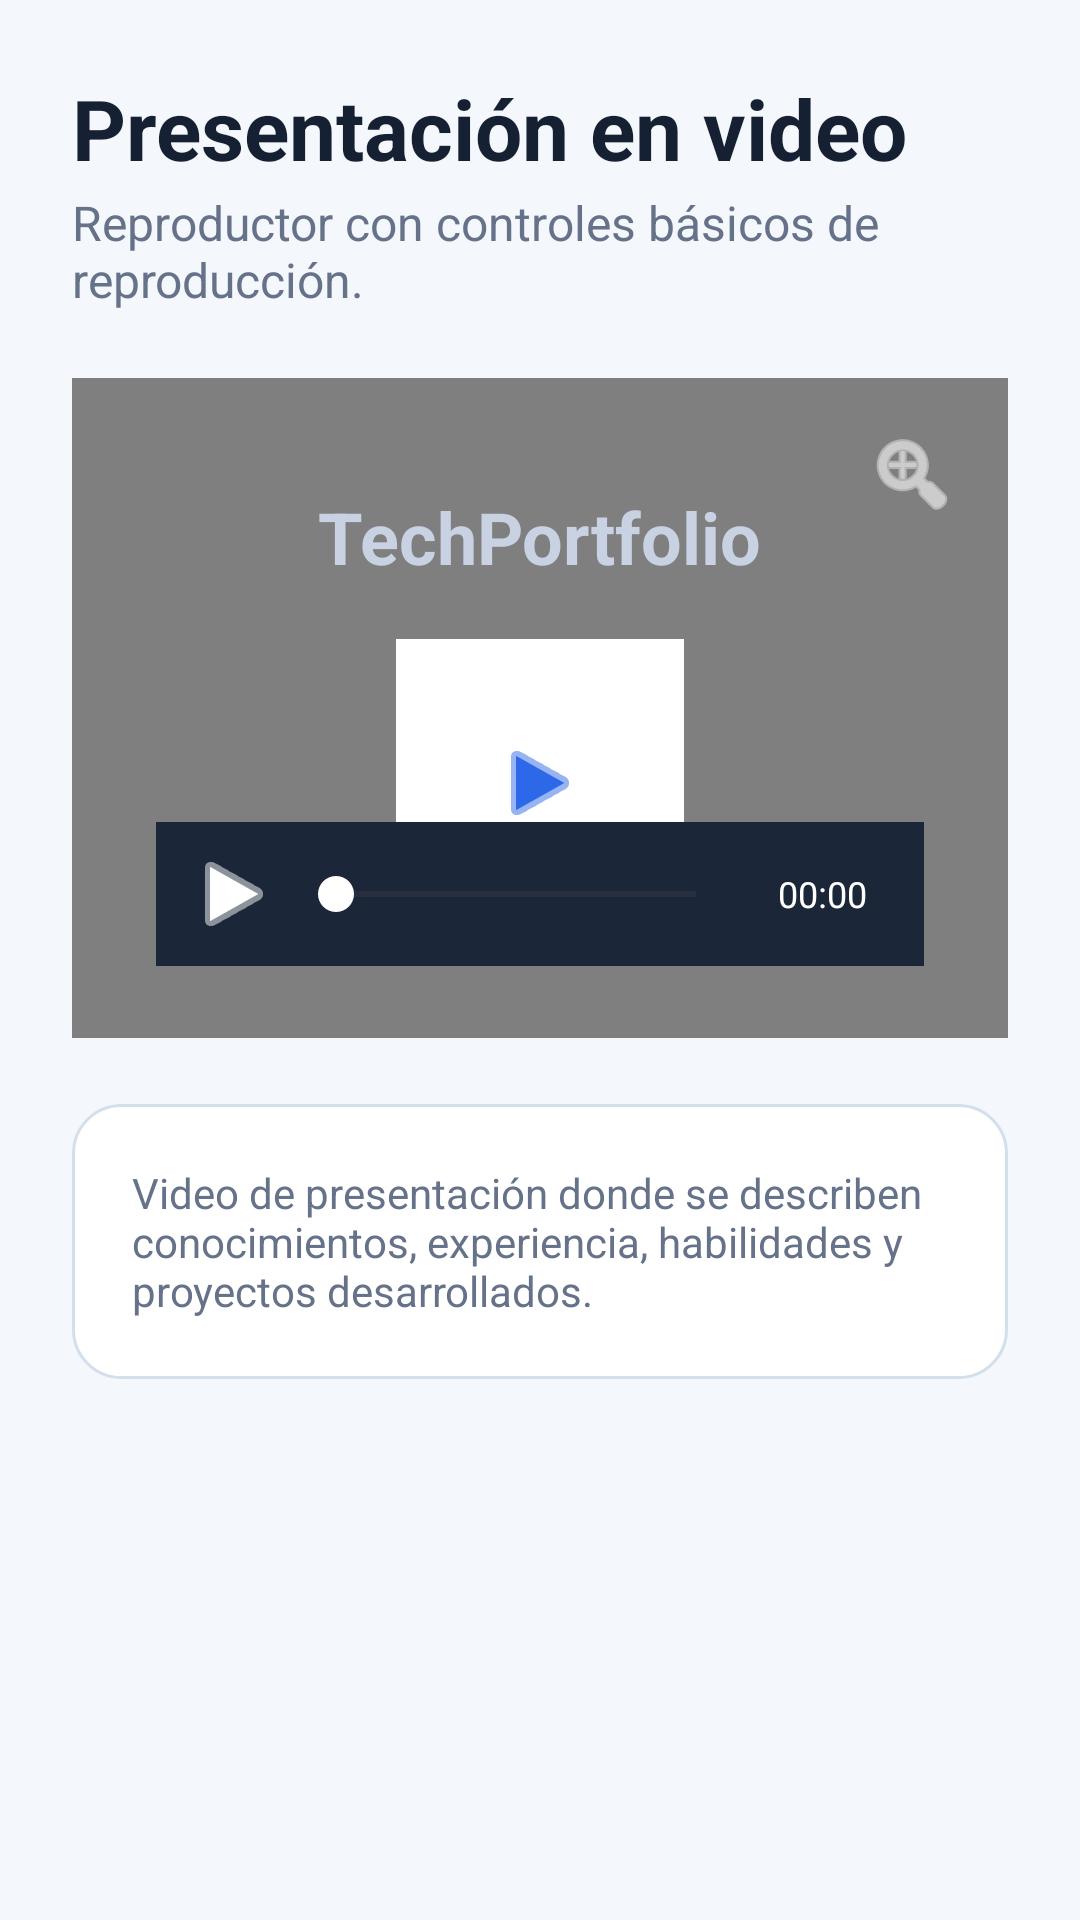

Named icons in this screenshot (1080×1920) and their centers, (x=x, y=y):
Ampliar reproductor: (x=912, y=474)
